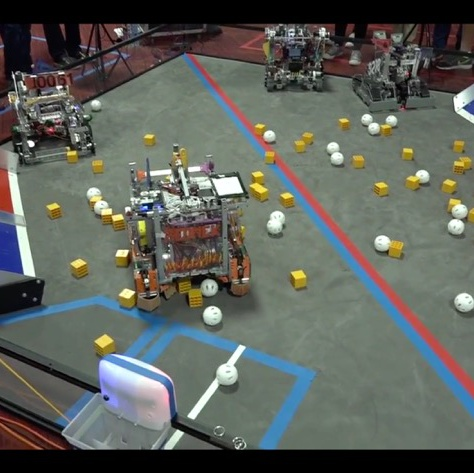robot: (125, 141, 256, 310), (6, 65, 99, 169), (349, 23, 442, 112), (259, 19, 337, 94)
